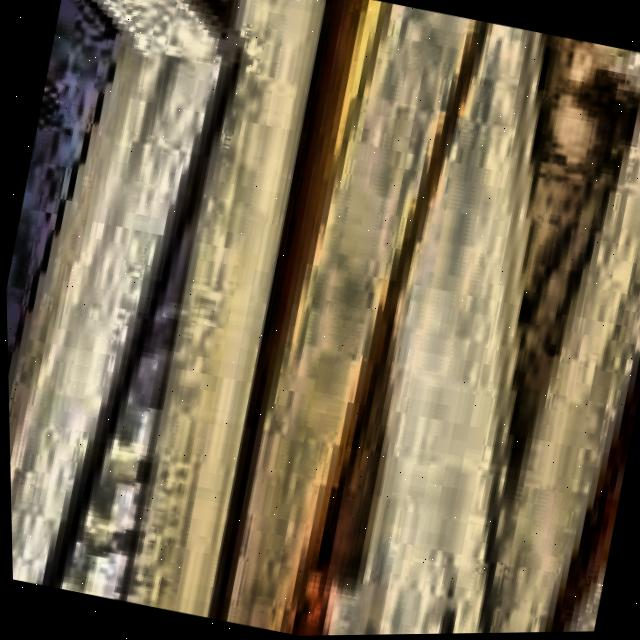paper: (0, 0, 497, 640), (147, 0, 640, 638), (148, 0, 640, 638), (0, 0, 350, 623), (329, 16, 640, 636), (0, 0, 262, 604)
